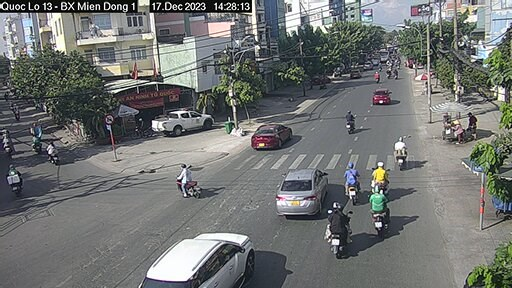car: (153, 230, 259, 288), (276, 165, 327, 217), (151, 109, 214, 134), (249, 120, 296, 150), (371, 87, 392, 104), (348, 66, 361, 81)
motorbike: (326, 204, 354, 254), (368, 187, 390, 231), (172, 166, 201, 197), (387, 134, 410, 168), (343, 163, 360, 207), (342, 105, 357, 138)
